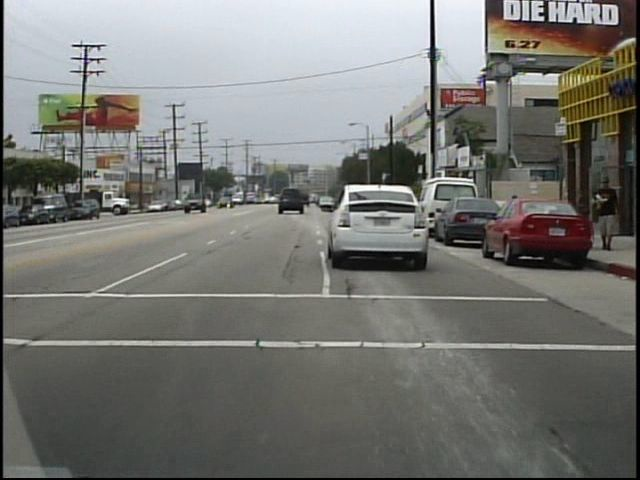person: (591, 171, 621, 255)
